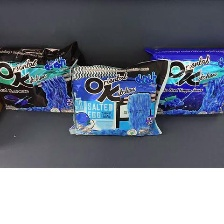snack: (63, 52, 175, 140), (0, 34, 88, 119), (139, 42, 224, 120)
